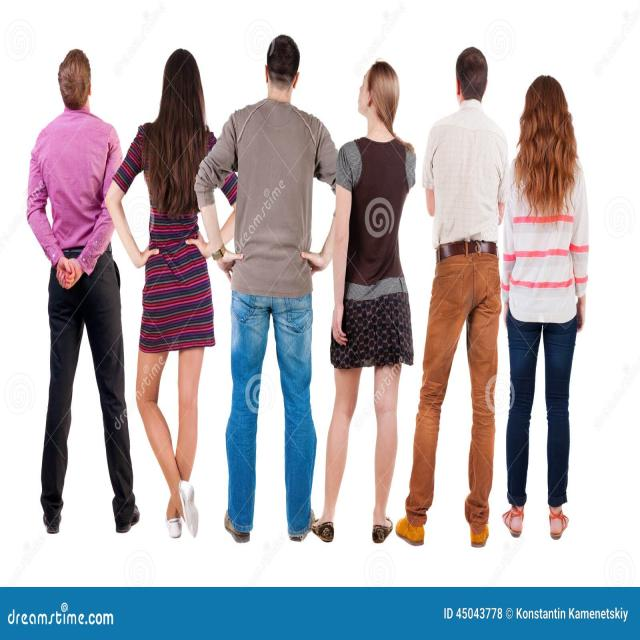adult: (194, 34, 334, 542), (104, 49, 235, 543), (395, 47, 507, 546), (28, 44, 141, 534), (314, 57, 415, 544), (503, 75, 586, 536)
